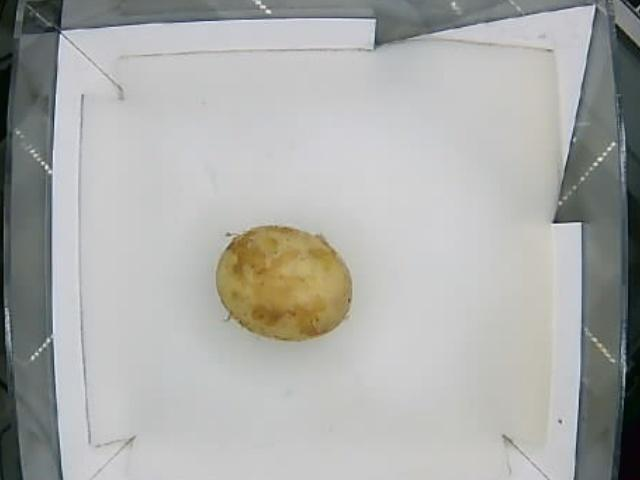Potato: (215, 227, 354, 341)
